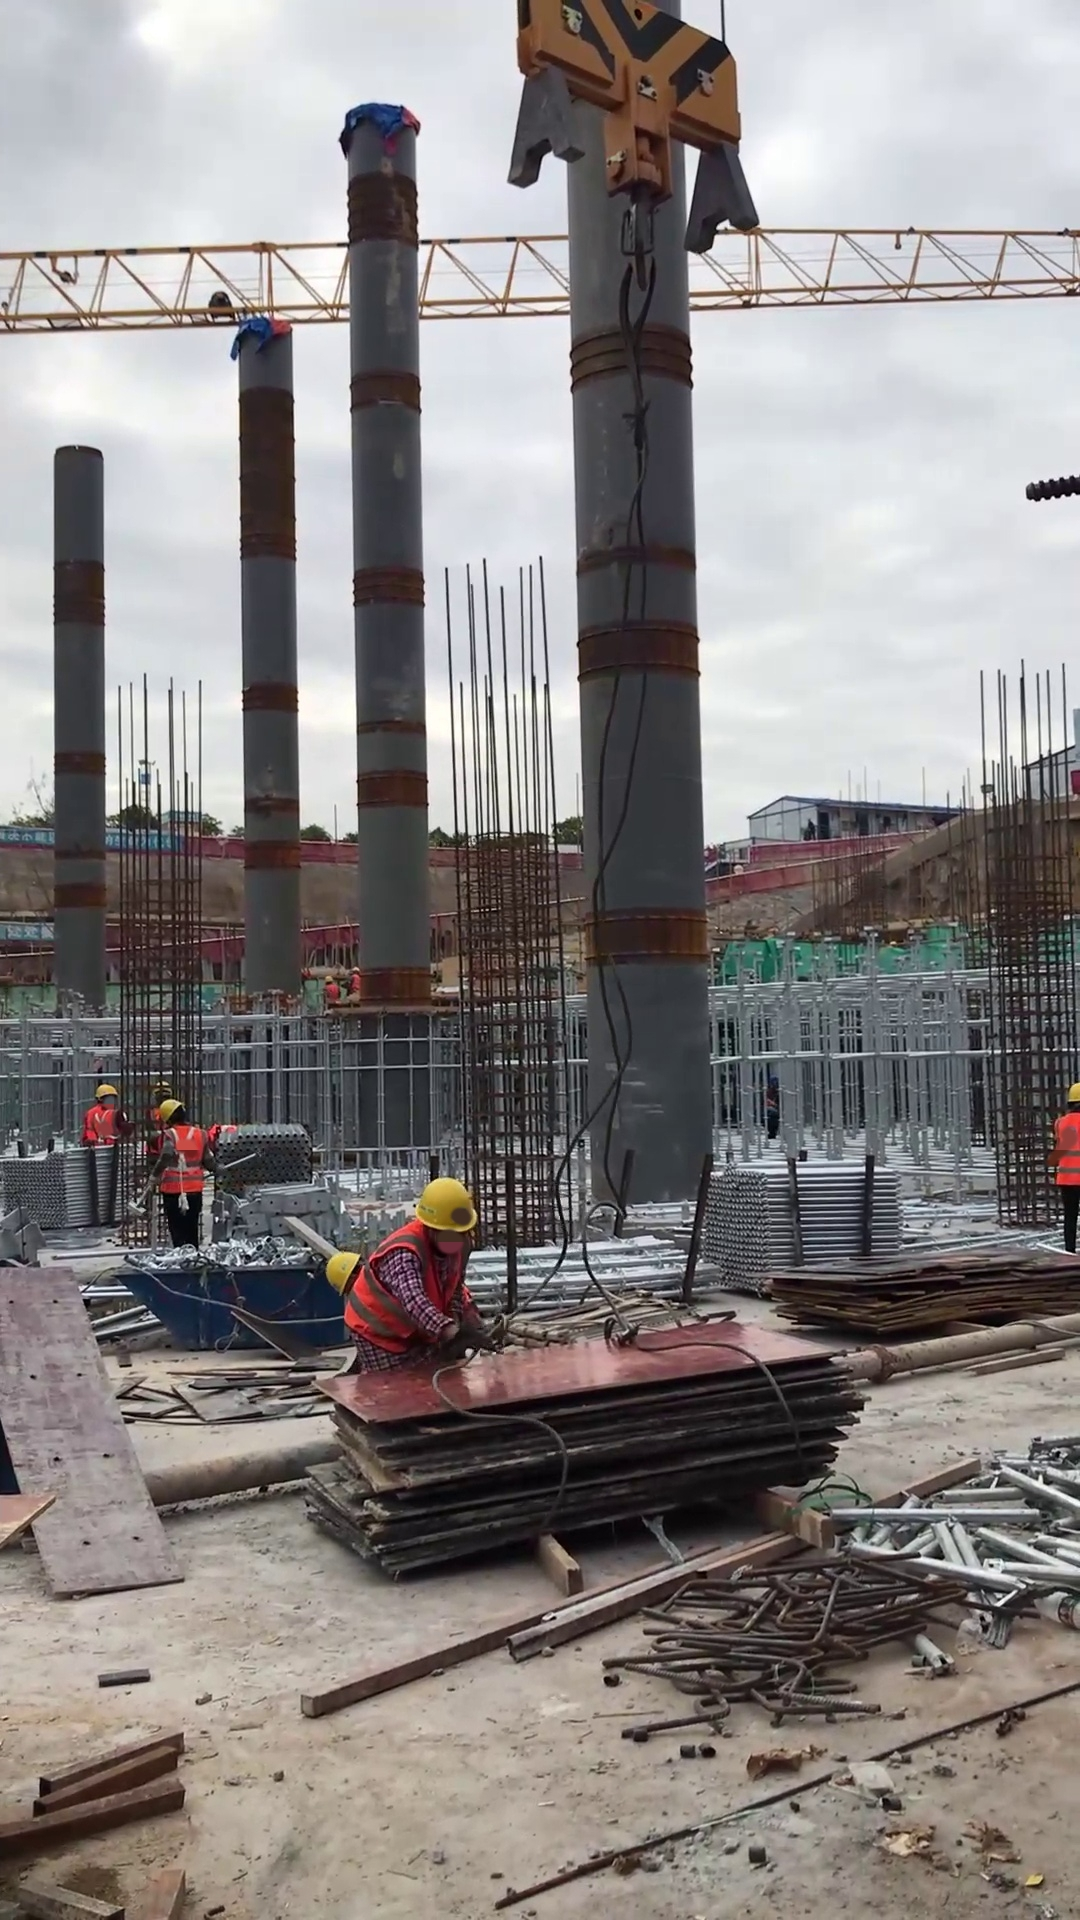board: (305, 1317, 863, 1580), (758, 1251, 1080, 1337)
helmet: (413, 1175, 481, 1234), (323, 1249, 362, 1297), (156, 1097, 183, 1124), (92, 1083, 118, 1099), (1066, 1080, 1080, 1105), (150, 1079, 173, 1095), (324, 974, 333, 984), (352, 965, 360, 974)
hook: (503, 1, 764, 296)
hopper: (112, 1265, 357, 1355)
person: (342, 1175, 499, 1373), (127, 1096, 269, 1249), (1047, 1080, 1080, 1253), (83, 1083, 135, 1142), (320, 973, 343, 1006), (342, 964, 363, 996)
scaffold: (700, 1155, 900, 1296), (467, 1233, 720, 1321), (1, 1141, 139, 1234), (214, 1121, 317, 1197)
slogan: (1, 823, 184, 860), (1, 917, 62, 944)
vest: (343, 1220, 470, 1358), (157, 1123, 210, 1194), (1052, 1110, 1080, 1187), (95, 1106, 119, 1141), (83, 1105, 104, 1143), (324, 984, 341, 1005), (348, 973, 360, 994)
